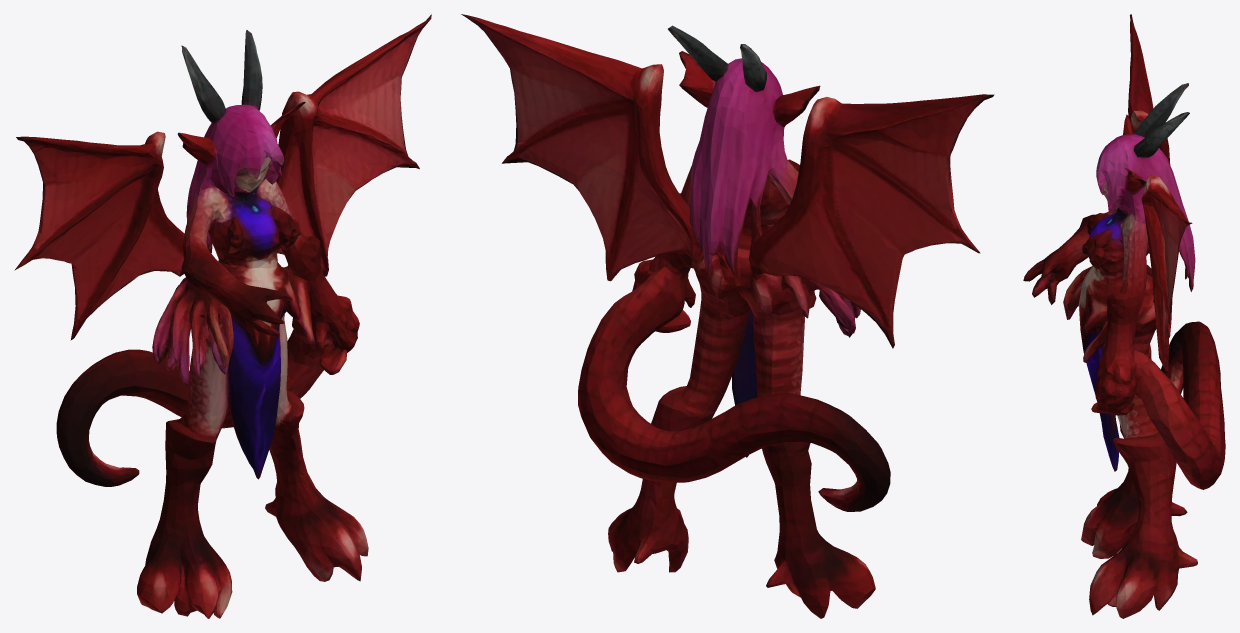
Rendered from cinderwing.glb.
3 renders of one model, left to right at view 1: azimuth 30°, elevation 25°; view 2: azimuth 150°, elevation 25°; view 3: azimuth 270°, elevation 25°, orthographic. The views are drawn at different scales.
Parts seen in each view (by area): view 1: MeshScale; view 2: MeshScale; view 3: MeshScale.
Part boxes in pixels (x1,y1,x2,y2): MeshScale: (14,14,431,618); MeshScale: (461,14,994,618); MeshScale: (1023,14,1225,618).
Size of the model in its own units: 2.07 by 2.35 by 0.8943.
Materials: 1 (1 with a texture image).
